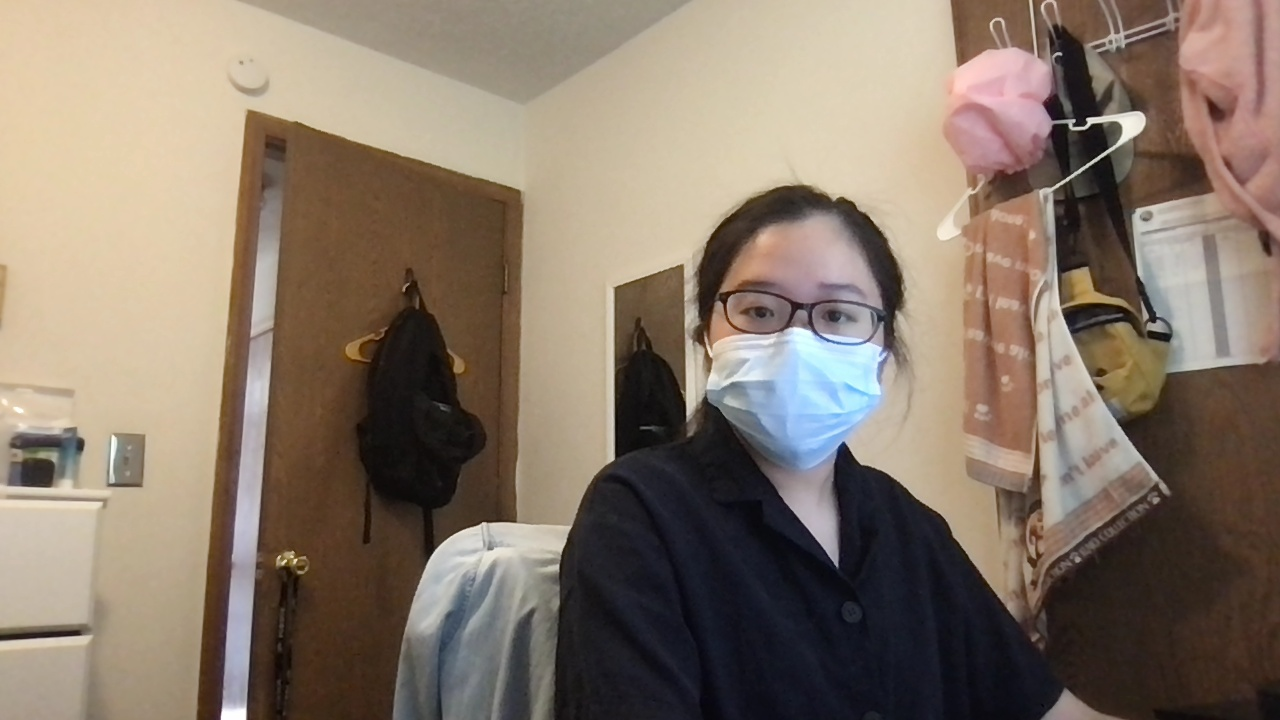Mask: (704, 335, 898, 462)
